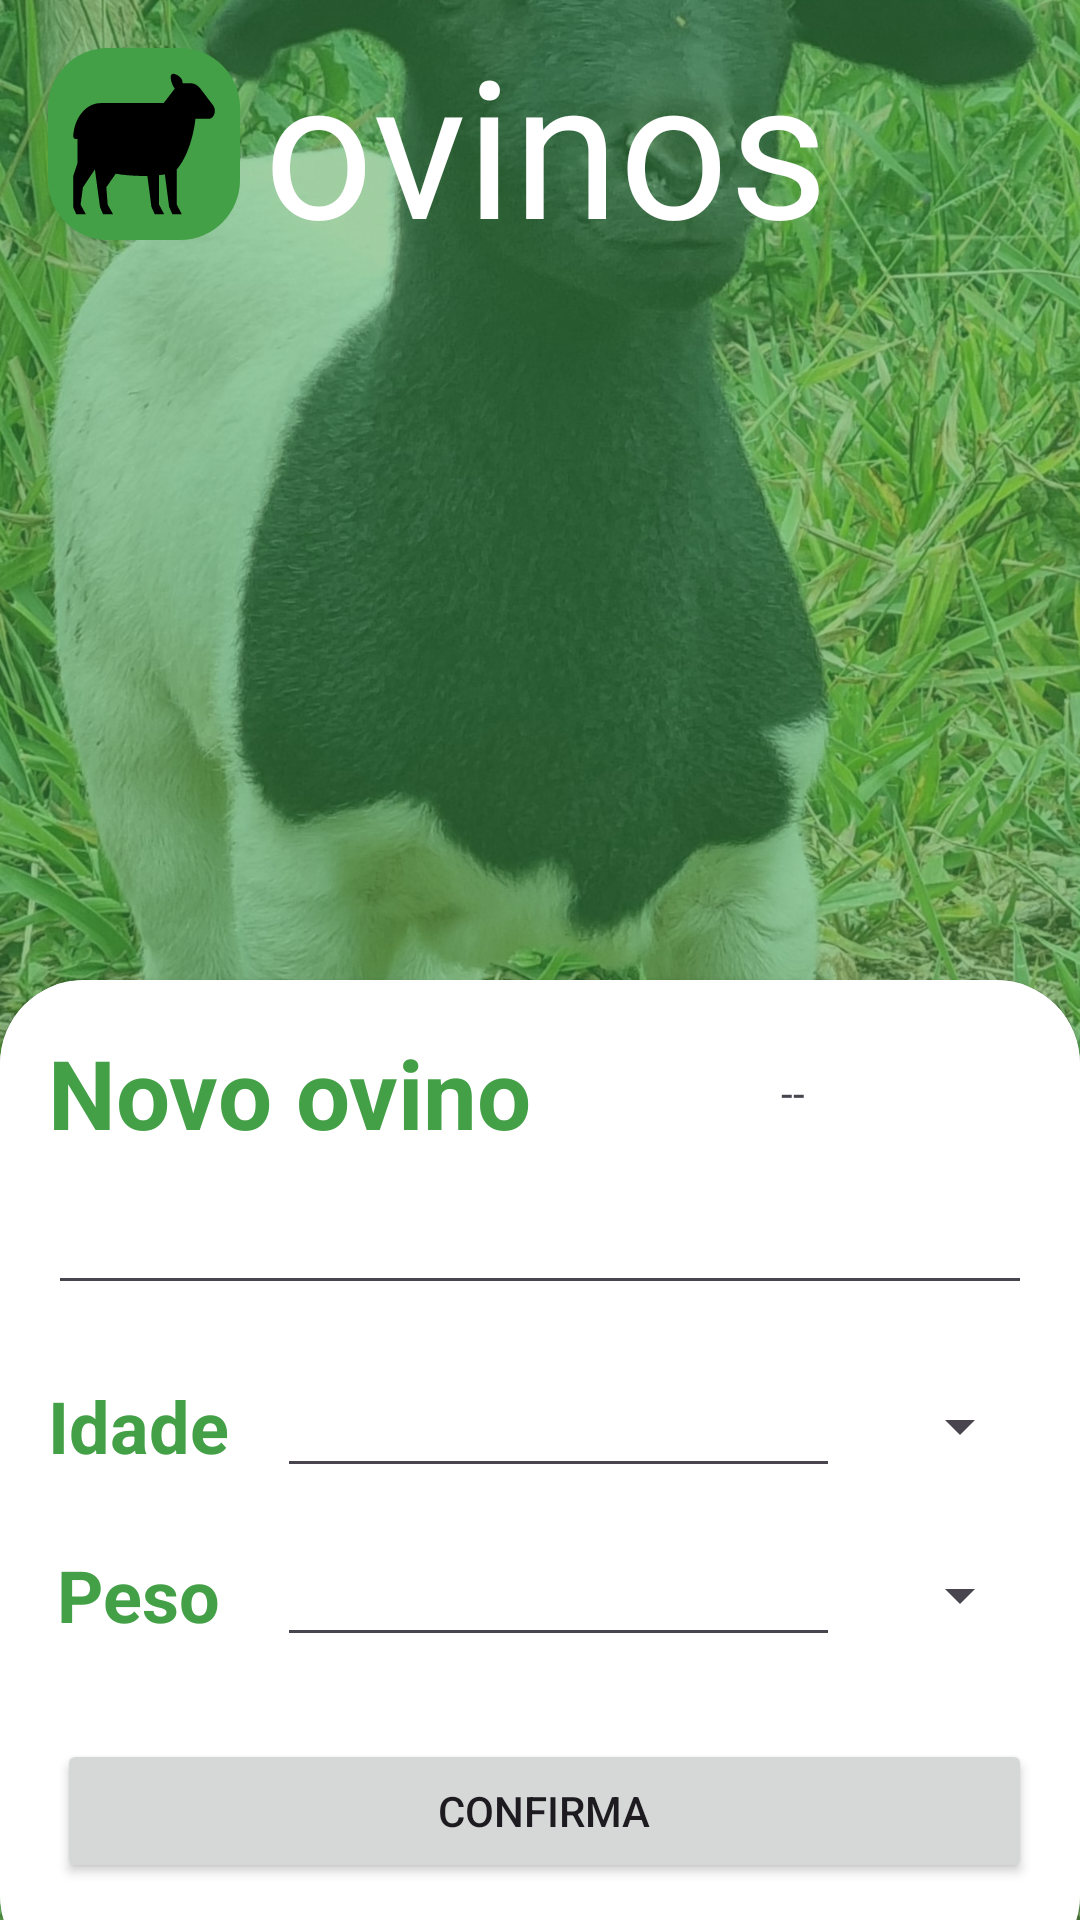

Icons on this 1080 x 1920 Android screen, each with the point to tap as (x=x, y=y):
sheep: (x=144, y=144)
